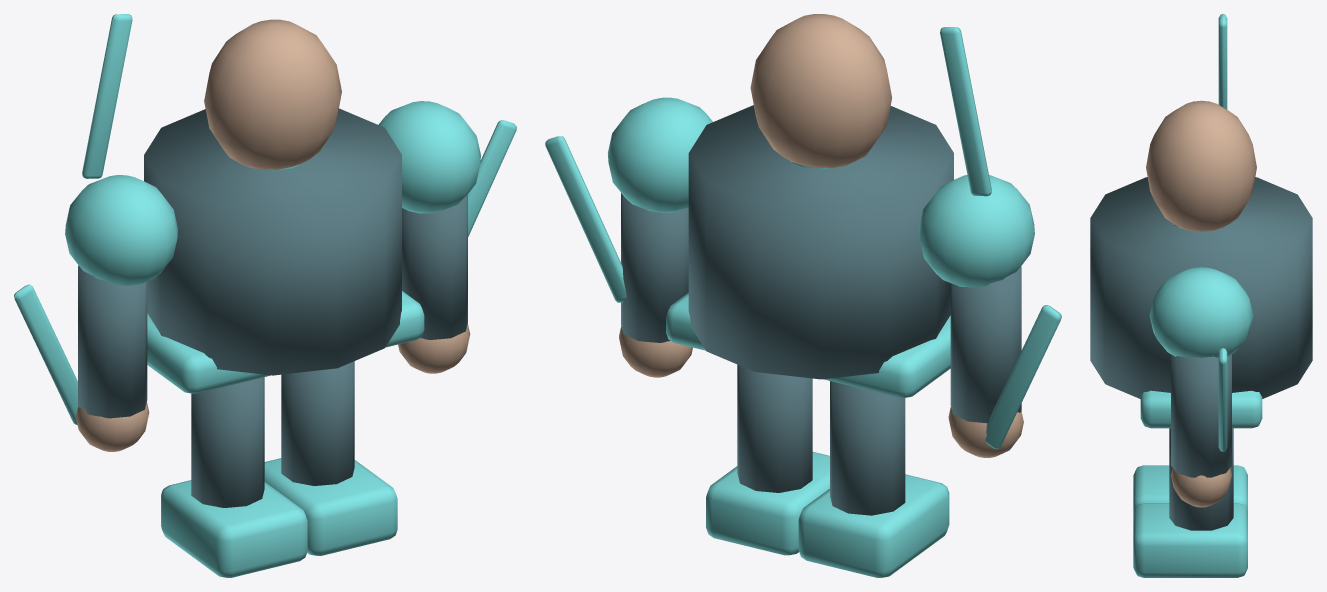
File: Bladecaller_Placeholder.glb
3 views of the same model, side by side, from view 1: azimuth 30°, elevation 25°; view 2: azimuth 150°, elevation 25°; view 3: azimuth 270°, elevation 25° (orthographic). The views are drawn at different scales.
Parts seen in each view (by area): view 1: Bladecaller_Placeholder_Export; view 2: Bladecaller_Placeholder_Export; view 3: Bladecaller_Placeholder_Export.
Boxes of the visible parts, x1,y1,x2,y2 form: Bladecaller_Placeholder_Export: [14, 14, 516, 577]; Bladecaller_Placeholder_Export: [545, 14, 1061, 577]; Bladecaller_Placeholder_Export: [1090, 14, 1312, 577].
Size of the model in its own units: 167 by 174 by 74.4.
